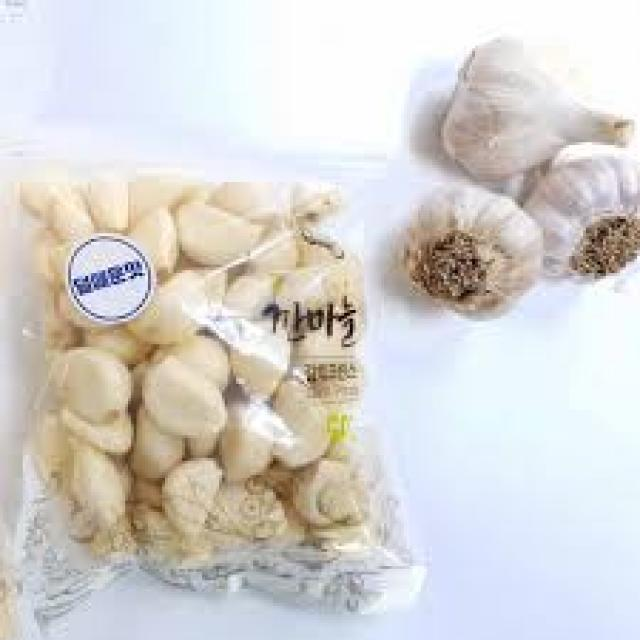garlic: (44, 337, 269, 491)
